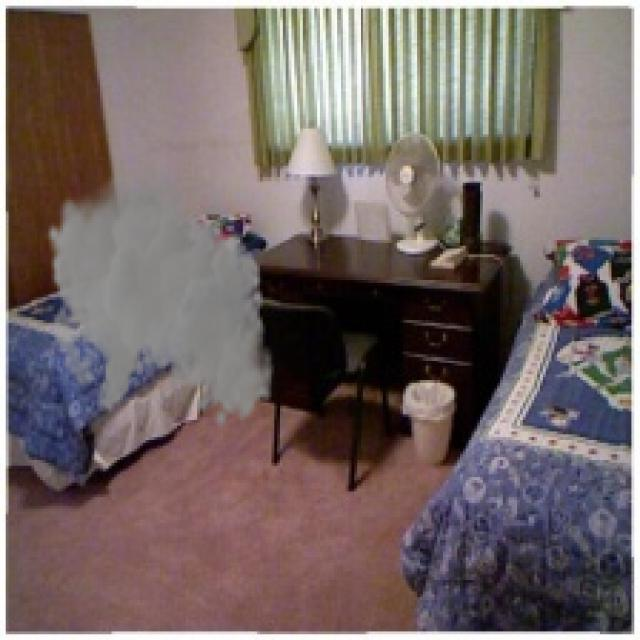smoke: (46, 160, 274, 429)
